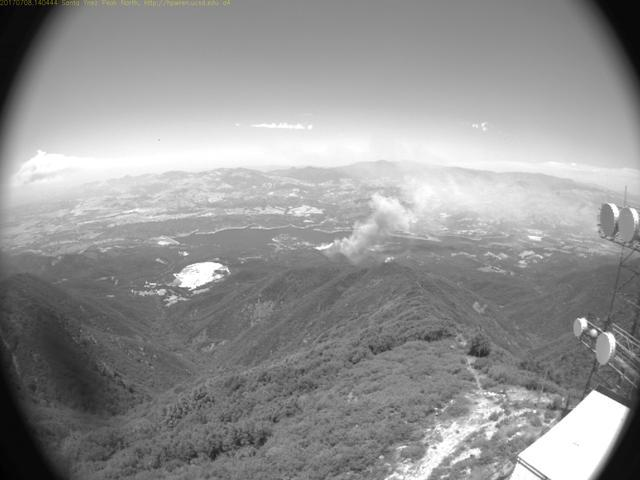smoke: (315, 174, 549, 266)
